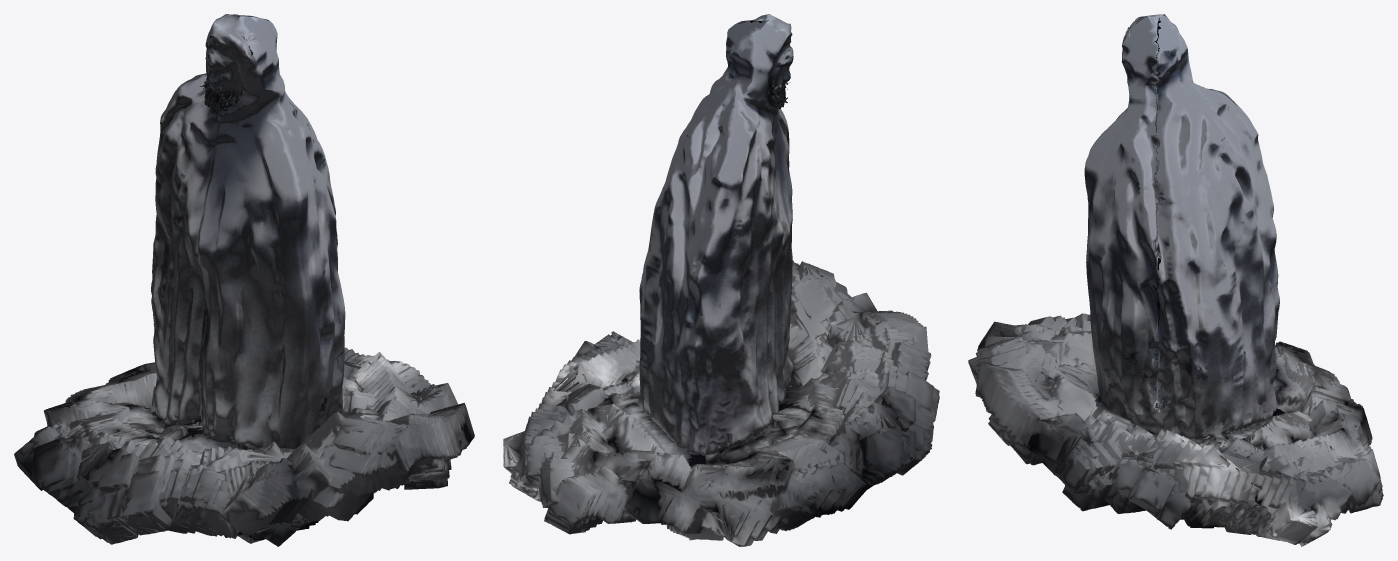
File: monk_uv.glb
The picture shows the model from 3 angles, left to right: view 1: azimuth 30°, elevation 25°; view 2: azimuth 150°, elevation 25°; view 3: azimuth 270°, elevation 25°; orthographic projection. The views are drawn at different scales.
Bounding box in the file's own units: 1.58 × 2 × 1.65.
1 material, 1 textured.
